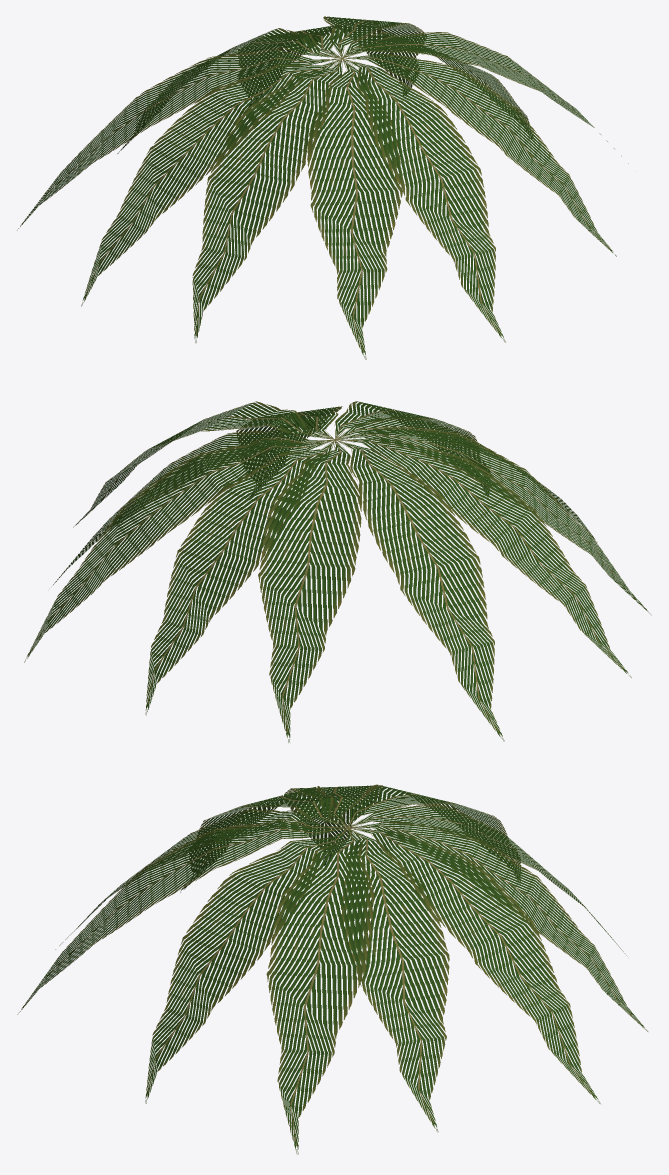
Rendered from SM_Art_Veg_Palm_0_Frond.gltf.
3 views of the same model, one above another, from view 1: azimuth 30°, elevation 25°; view 2: azimuth 150°, elevation 25°; view 3: azimuth 270°, elevation 25° (orthographic). The views are drawn at different scales.
Visible parts, largest first — view 1: SM_Art_Veg_Palm_0_Frond; view 2: SM_Art_Veg_Palm_0_Frond; view 3: SM_Art_Veg_Palm_0_Frond.
Part boxes in pixels (x1,y1,x2,y2): SM_Art_Veg_Palm_0_Frond: (17,16,628,359); SM_Art_Veg_Palm_0_Frond: (24,401,651,742); SM_Art_Veg_Palm_0_Frond: (17,784,648,1154).
Size of the model in its own units: 5.97 by 1.82 by 5.56.
1 material, 1 textured.
